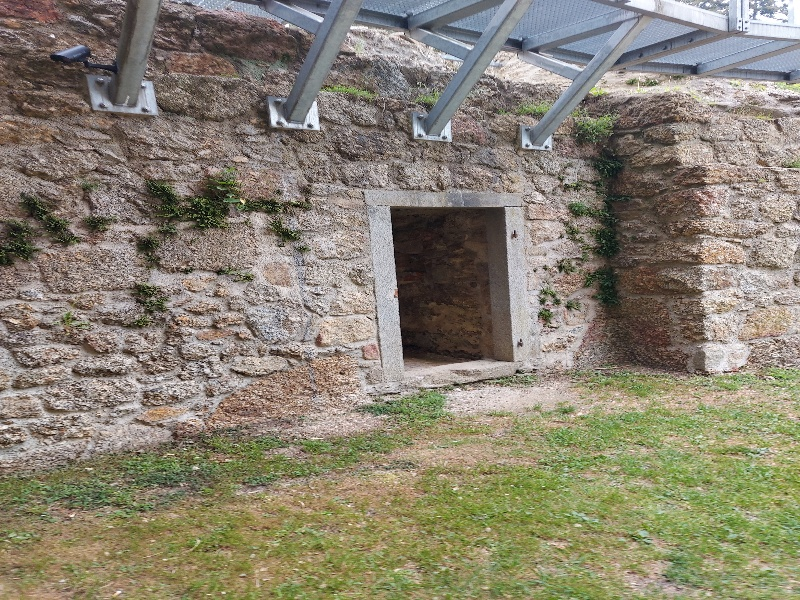door1: (361, 168, 540, 396)
